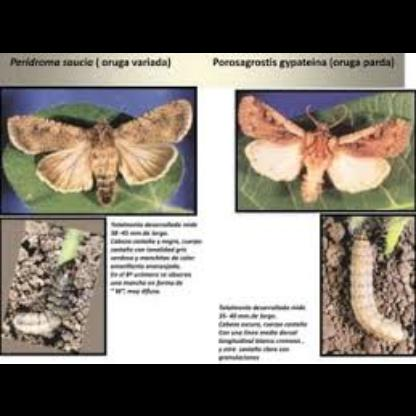oruga: (340, 234, 406, 344)
